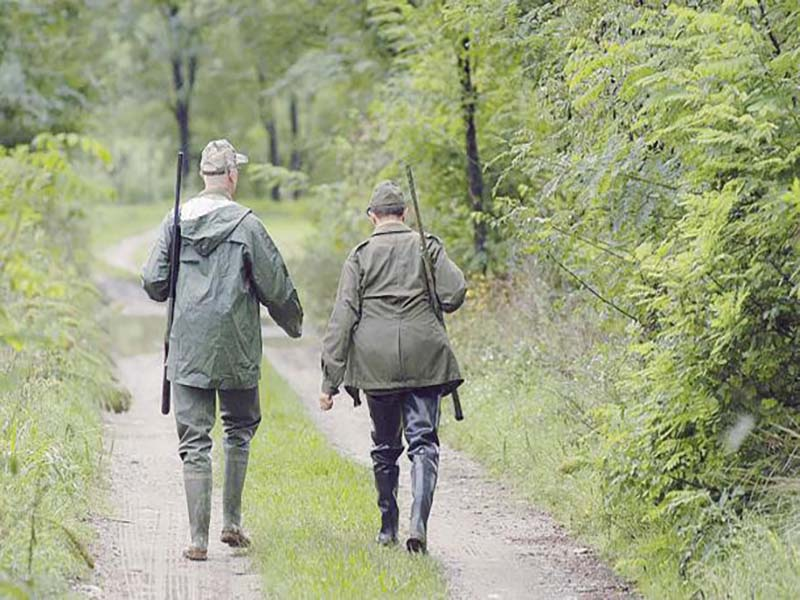cacciatore: (159, 139, 265, 553), (348, 173, 438, 319)
